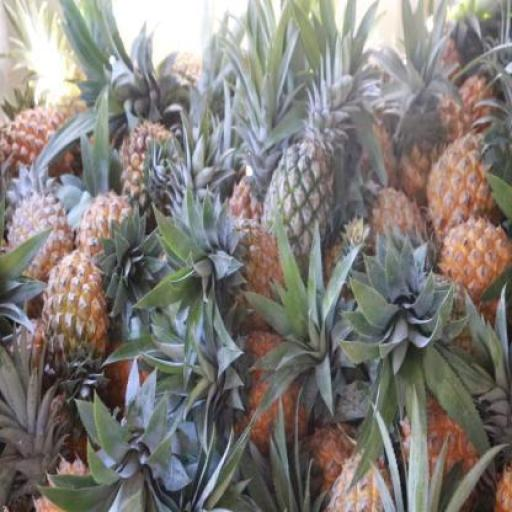Pineapple - v8 v1: (44, 258, 105, 384), (428, 130, 500, 232), (439, 219, 512, 308)
